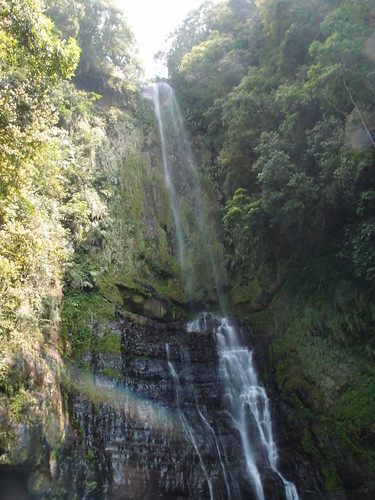wufengciWaterfall: (99, 67, 325, 488)
